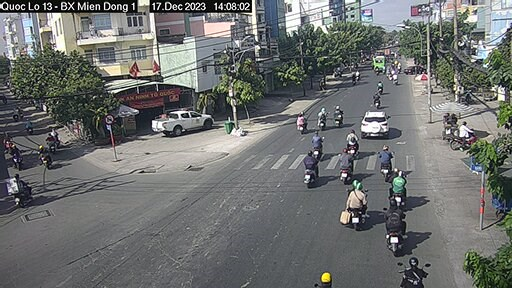bus: (370, 54, 387, 70)
car: (152, 109, 213, 136), (361, 110, 390, 135)
motorbike: (345, 179, 367, 224), (384, 200, 404, 244), (389, 169, 410, 207), (333, 149, 357, 181), (12, 171, 33, 207), (299, 152, 320, 183), (8, 141, 25, 172), (378, 144, 392, 176), (344, 133, 362, 157), (35, 143, 50, 168), (315, 107, 327, 129), (299, 111, 309, 132), (333, 107, 344, 126), (312, 137, 323, 156)
